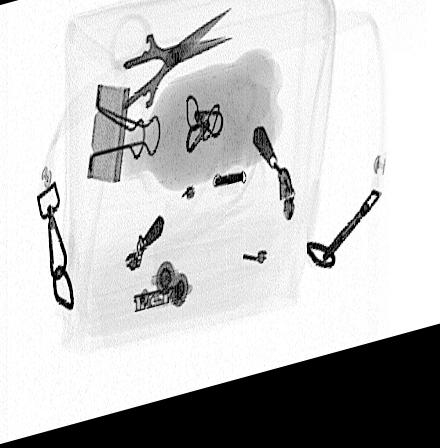Scissors: (107, 15, 234, 148)
